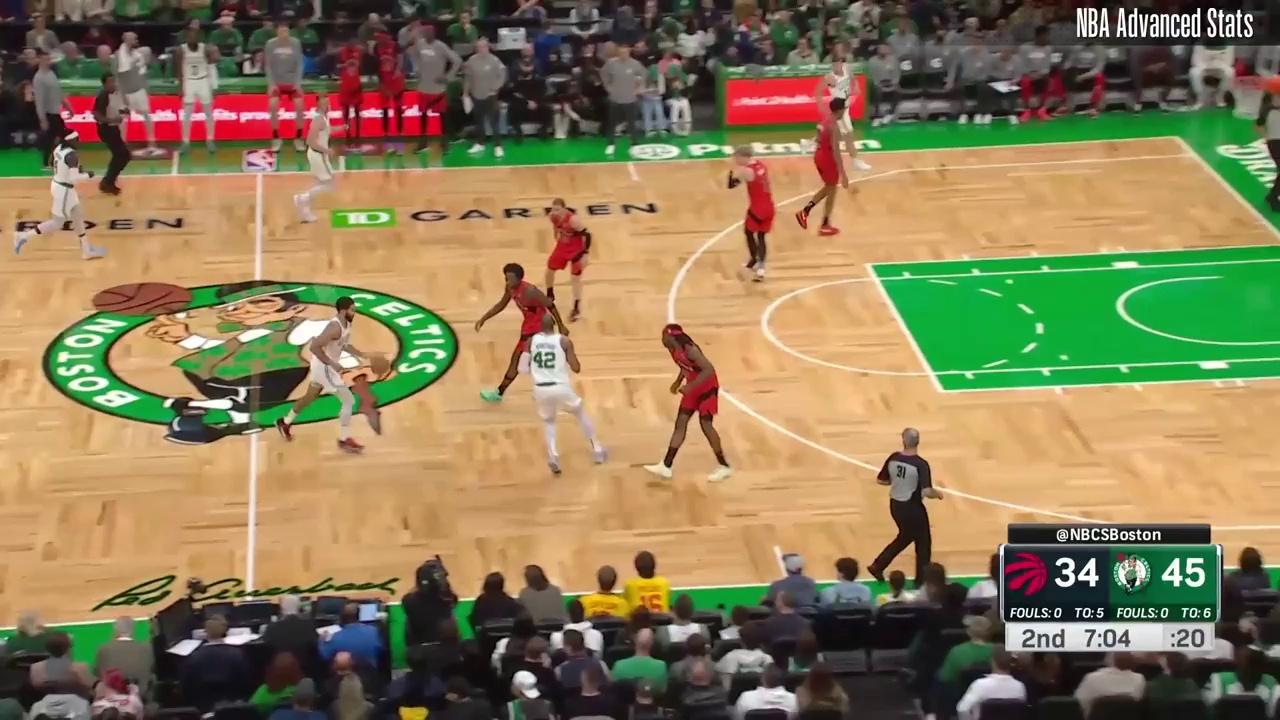3_sx: (1188, 149, 1200, 160)
b_sx: (1170, 132, 1182, 143)
free_adx: (934, 385, 945, 397)
free_asx: (862, 260, 873, 271)
half_sx: (252, 166, 267, 182)
mid_dx: (772, 542, 781, 550)
mid_sx: (630, 174, 642, 185)
referee: (866, 427, 944, 591), (96, 69, 134, 198)
team: (279, 294, 366, 455), (522, 317, 610, 474), (14, 130, 106, 260), (817, 55, 876, 173), (293, 94, 340, 226)
team1: (645, 321, 734, 485), (472, 264, 571, 404), (797, 98, 849, 236), (726, 142, 776, 282), (539, 196, 589, 325)
timer: (1078, 620, 1138, 652)
